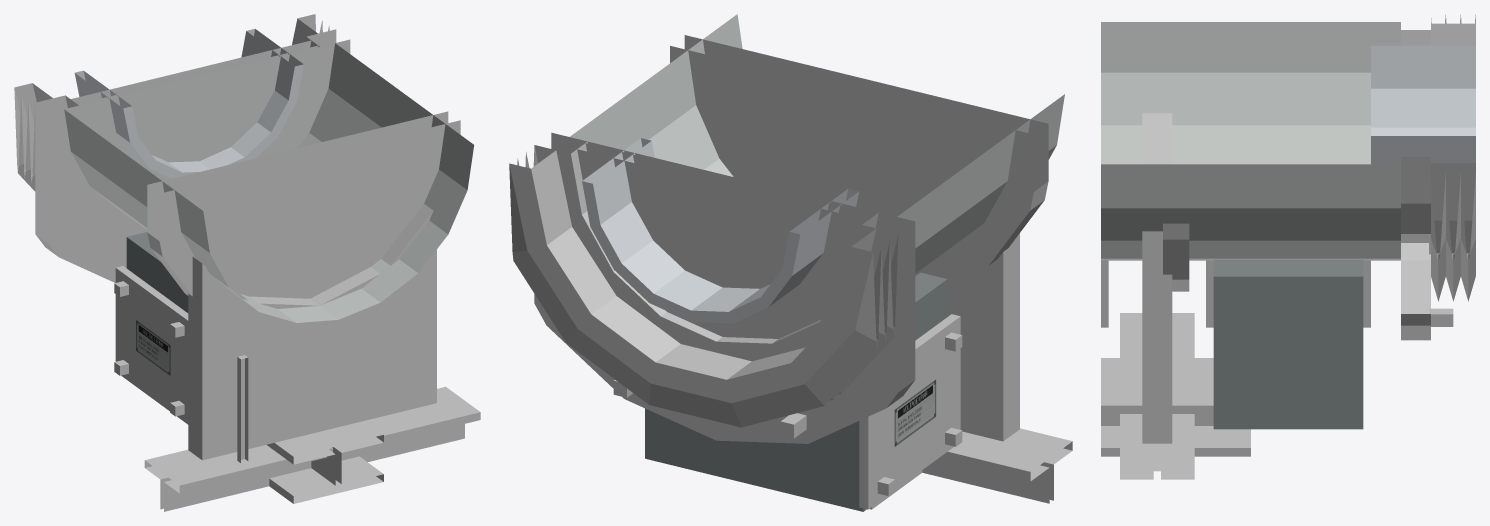
Rendered from cell_37.obj.
3 views of the same model, side by side, from view 1: azimuth 30°, elevation 25°; view 2: azimuth 150°, elevation 25°; view 3: azimuth 270°, elevation 25° (orthographic). The views are drawn at different scales.
Size of the model in its own units: 1 by 1 by 1.
